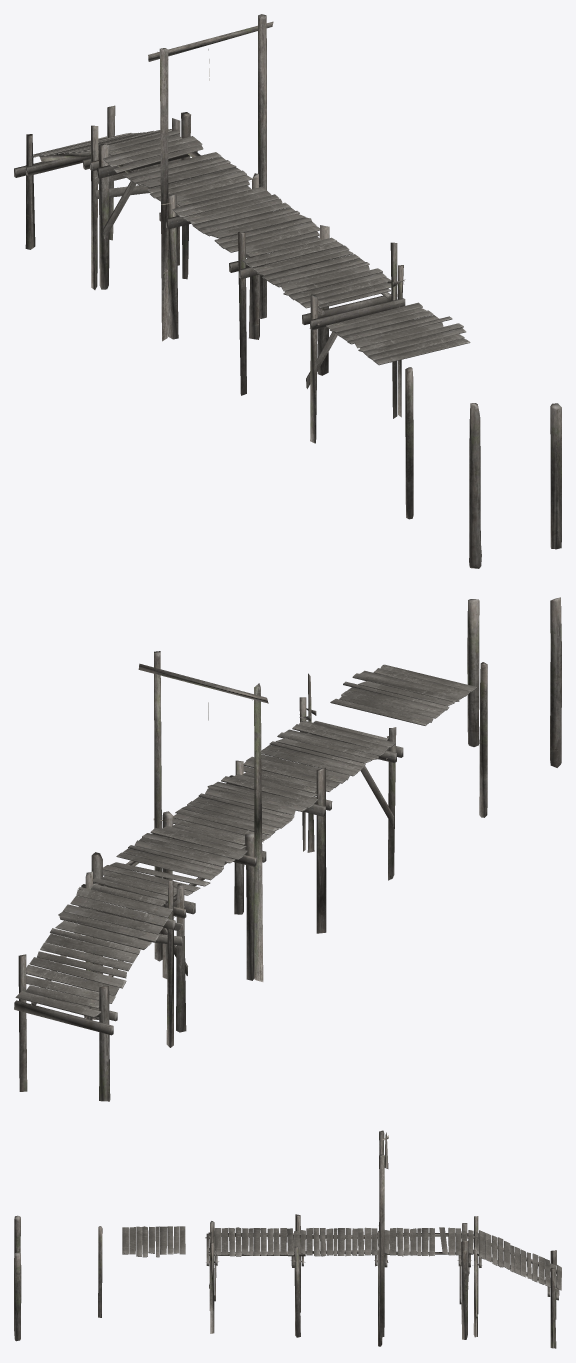
File: modular_wooden_pier.glb
3 views of the same model, one above another, from view 1: azimuth 30°, elevation 25°; view 2: azimuth 150°, elevation 25°; view 3: azimuth 270°, elevation 25° (orthographic). The views are drawn at different scales.
Visible parts, largest first — view 1: modular_wooden_pier_planks, modular_wooden_pier_section_01, modular_wooden_pier_poles; view 2: modular_wooden_pier_planks, modular_wooden_pier_section_01, modular_wooden_pier_poles; view 3: modular_wooden_pier_planks, modular_wooden_pier_section_01, modular_wooden_pier_poles.
Boxes of the visible parts, x1,y1,x2,y2 form: modular_wooden_pier_planks: [14, 49, 470, 388]; modular_wooden_pier_section_01: [25, 14, 403, 443]; modular_wooden_pier_poles: [405, 367, 561, 568]; modular_wooden_pier_planks: [14, 664, 477, 1035]; modular_wooden_pier_section_01: [18, 651, 396, 1101]; modular_wooden_pier_poles: [467, 597, 561, 817]; modular_wooden_pier_planks: [122, 1135, 561, 1304]; modular_wooden_pier_section_01: [205, 1130, 559, 1348]; modular_wooden_pier_poles: [14, 1215, 102, 1341].
Size of the model in its own units: 3.05 by 7.51 by 19.02.
Materials: 2 (2 with a texture image).
